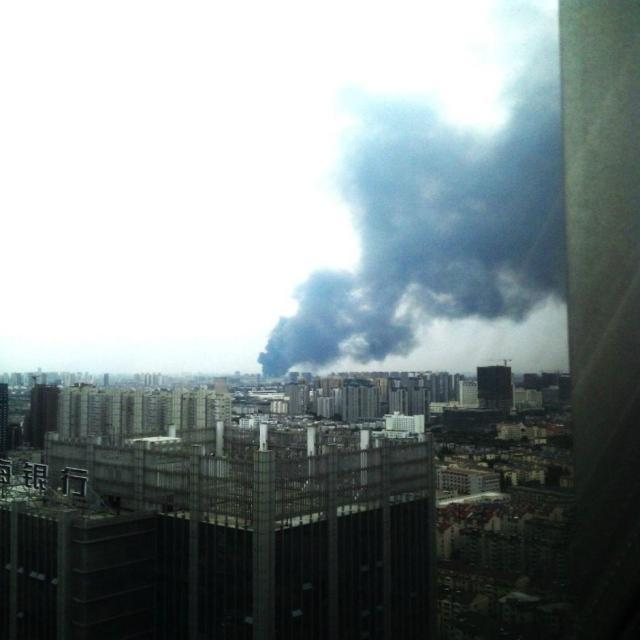Smoke: (242, 0, 564, 371)
